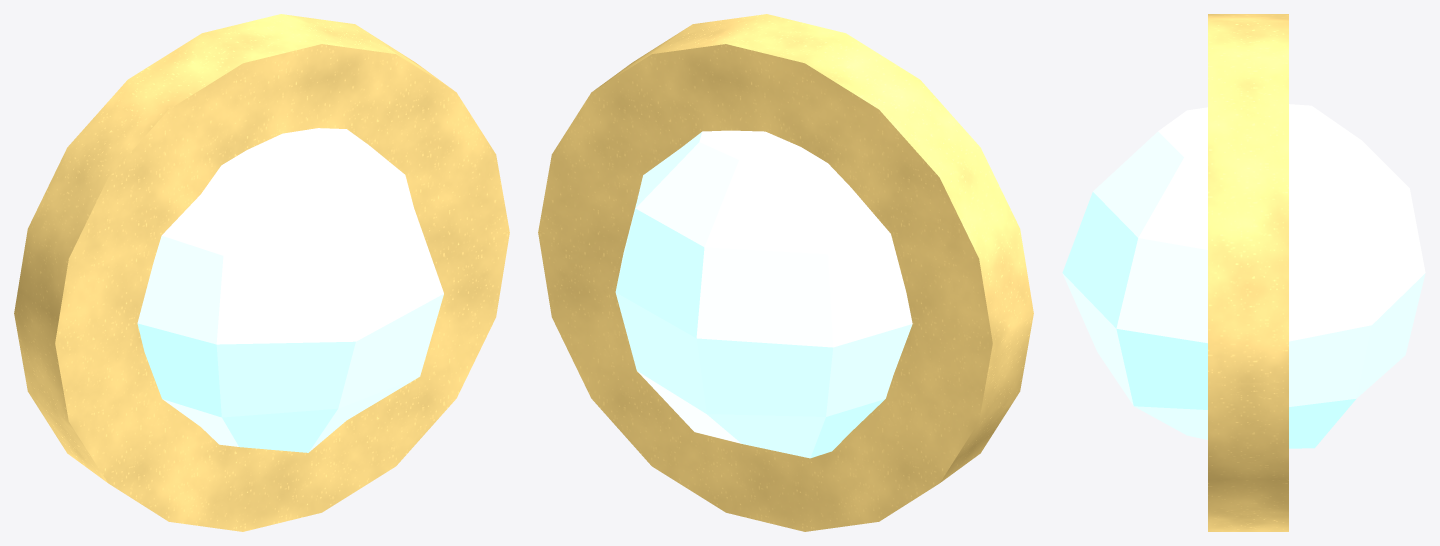
The model's file is charm.glb.
3 renders of one model, left to right at view 1: azimuth 30°, elevation 25°; view 2: azimuth 150°, elevation 25°; view 3: azimuth 270°, elevation 25°, orthographic.
Parts seen in each view (by area): view 1: charm; view 2: charm; view 3: charm.
Boxes of the visible parts, x1,y1,x2,y2 form: charm: (14,14,509,531); charm: (538,14,1033,531); charm: (1062,14,1425,531).
Size of the model in its own units: 0.32 by 0.3151 by 0.2235.
2 materials, 1 textured.
